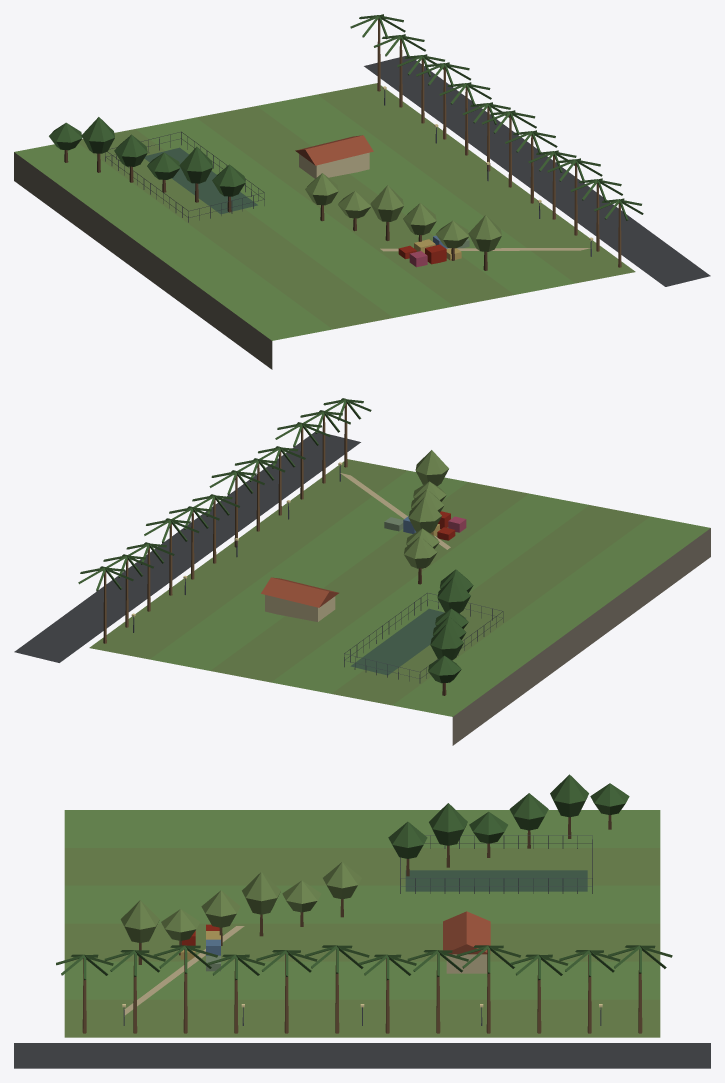
File: desktop.glb
3 renders of one model, top to bottom at view 1: azimuth 30°, elevation 25°; view 2: azimuth 150°, elevation 25°; view 3: azimuth 270°, elevation 25°, orthographic. The views are drawn at different scales.
Parts seen in each view (by area): view 1: lm.dolores-park; view 2: lm.dolores-park; view 3: lm.dolores-park.
Boxes of the visible parts, box(x1,y1,x2,y2) form: lm.dolores-park: box(14, 14, 710, 369); lm.dolores-park: box(14, 398, 710, 745); lm.dolores-park: box(14, 774, 710, 1068).
Bounding box in the file's own units: 110 × 21.46 × 138.
